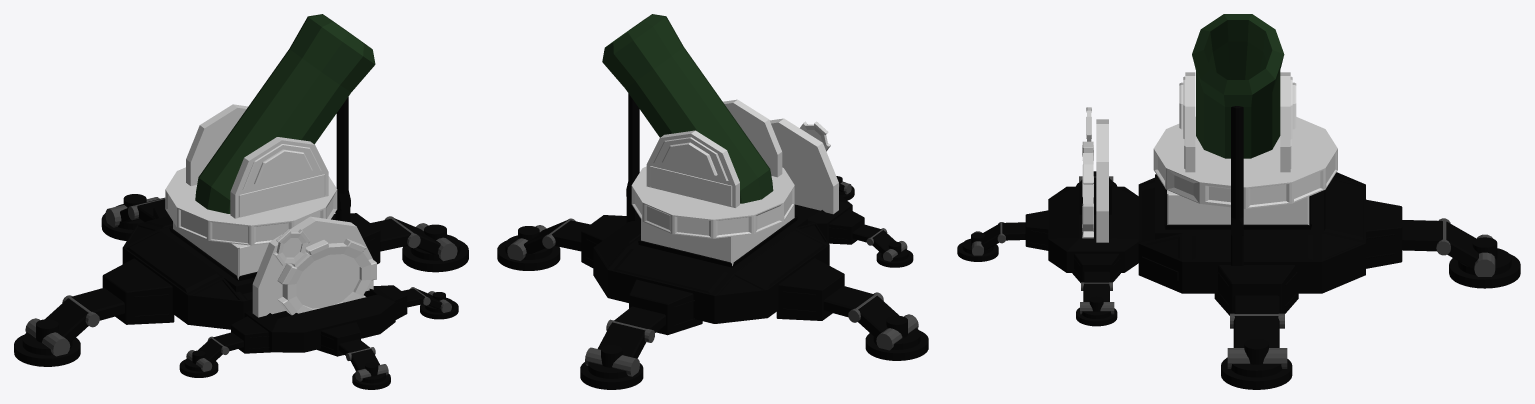
Rendered from TaretLevel3H.fbx.
The picture shows the model from 3 angles, left to right: view 1: azimuth 30°, elevation 25°; view 2: azimuth 150°, elevation 25°; view 3: azimuth 270°, elevation 25°; orthographic projection. The views are drawn at different scales.
Parts seen in each view (by area): view 1: Govde, Namlu, vidalar, gövde, leg1, gövde.001, leg3, gövde.002, leg1.002, LittleLeg1, leg3.002, LittleLeg2 (+10 smaller); view 2: gövde, Govde, Namlu, leg1, vidalar, leg2, gövde.002, leg3, leg2.002, leg1.002, LittleLeg1, leg3.002 (+6 smaller); view 3: gövde, Govde, Namlu, gövde.001, leg3, leg2, vidalar, gövde.002, leg3.002, Destek, leg2.002, LittleLeg3 (+5 smaller).
Boxes of the visible parts, x1,y1,x2,y2 form: Govde: [165, 104, 337, 245]; Namlu: [195, 14, 375, 213]; vidalar: [252, 216, 376, 317]; gövde: [122, 215, 371, 329]; leg1: [45, 258, 174, 342]; gövde.001: [244, 286, 395, 352]; leg3: [331, 213, 440, 264]; gövde.002: [173, 222, 268, 279]; leg1.002: [14, 319, 80, 366]; LittleLeg1: [198, 316, 271, 363]; leg3.002: [402, 224, 468, 272]; LittleLeg2: [317, 322, 379, 370]; gövde: [593, 215, 829, 323]; Govde: [631, 99, 794, 238]; Namlu: [602, 14, 773, 203]; leg1: [776, 258, 899, 338]; vidalar: [769, 118, 838, 214]; leg2: [597, 279, 702, 358]; gövde.002: [641, 205, 794, 265]; leg3: [524, 215, 626, 267]; leg2.002: [580, 344, 643, 389]; leg1.002: [865, 315, 928, 360]; LittleLeg1: [828, 209, 895, 254]; leg3.002: [497, 226, 560, 270]; gövde: [1138, 172, 1365, 293]; Govde: [1153, 72, 1337, 208]; Namlu: [1192, 14, 1284, 158]; gövde.001: [1048, 186, 1138, 272]; leg3: [1214, 265, 1298, 347]; leg2: [1366, 199, 1478, 268]; vidalar: [1082, 107, 1108, 242]; gövde.002: [1167, 190, 1309, 224]; leg3.002: [1221, 339, 1292, 389]; Destek: [1231, 106, 1243, 265]; leg2.002: [1449, 237, 1520, 288]; LittleLeg3: [1072, 253, 1120, 301].
Bounding box in the file's own units: 811 × 477 × 827.
